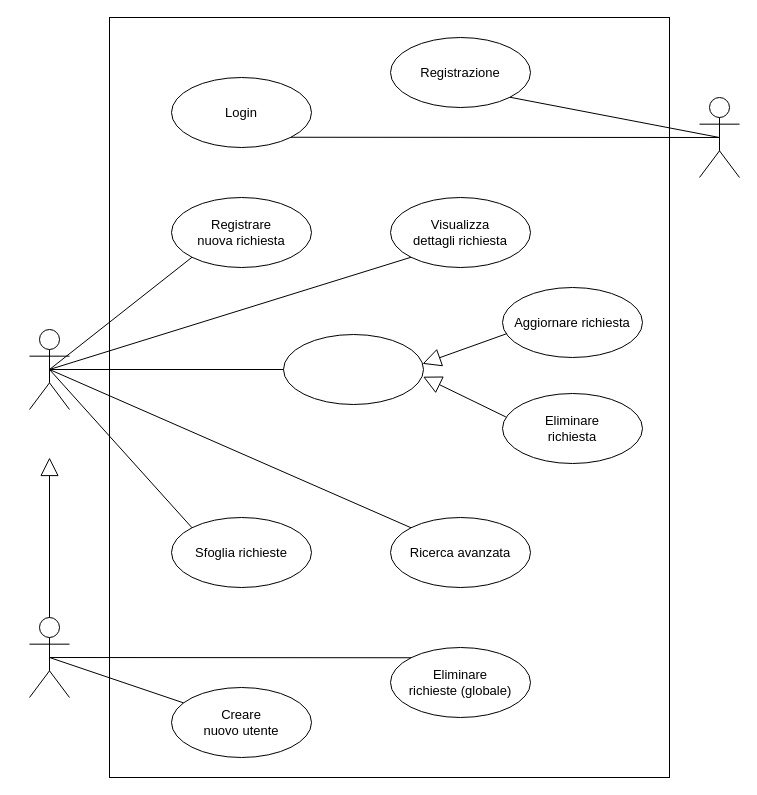
Some shapes in this 757 by 795 pixel diagram are drawn without their labels. Here are the shapes that lost their labels. From the top down, the centre of each, then its label:
At pixel 719 137: "Guest".
At pixel 49 369: "Utente Autenticato".
At pixel 353 369: "Gestire richieste (proprie)".
At pixel 49 657: "Admin".
